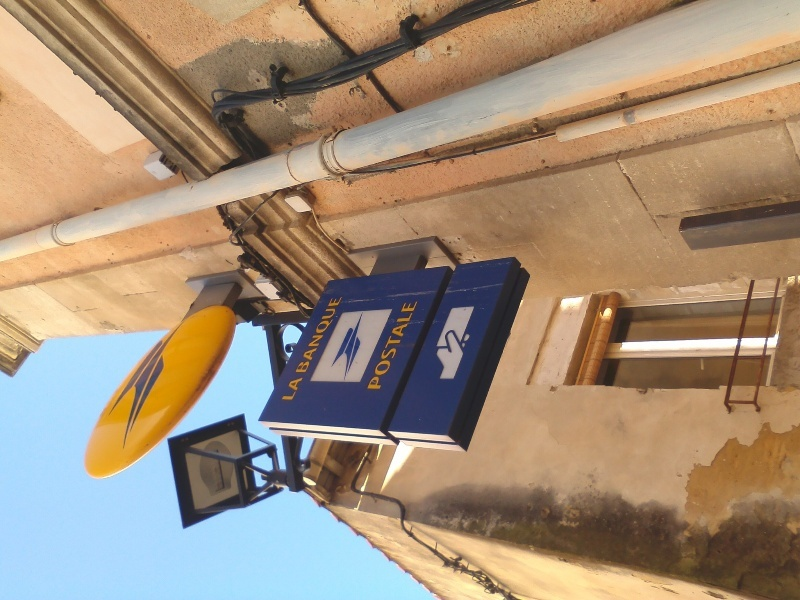text: (369, 301, 384, 391), (385, 301, 400, 391), (401, 301, 416, 391), (305, 296, 320, 375), (321, 296, 336, 375), (294, 296, 304, 375), (337, 296, 345, 375), (292, 376, 304, 401), (417, 301, 420, 391), (366, 301, 368, 391)
